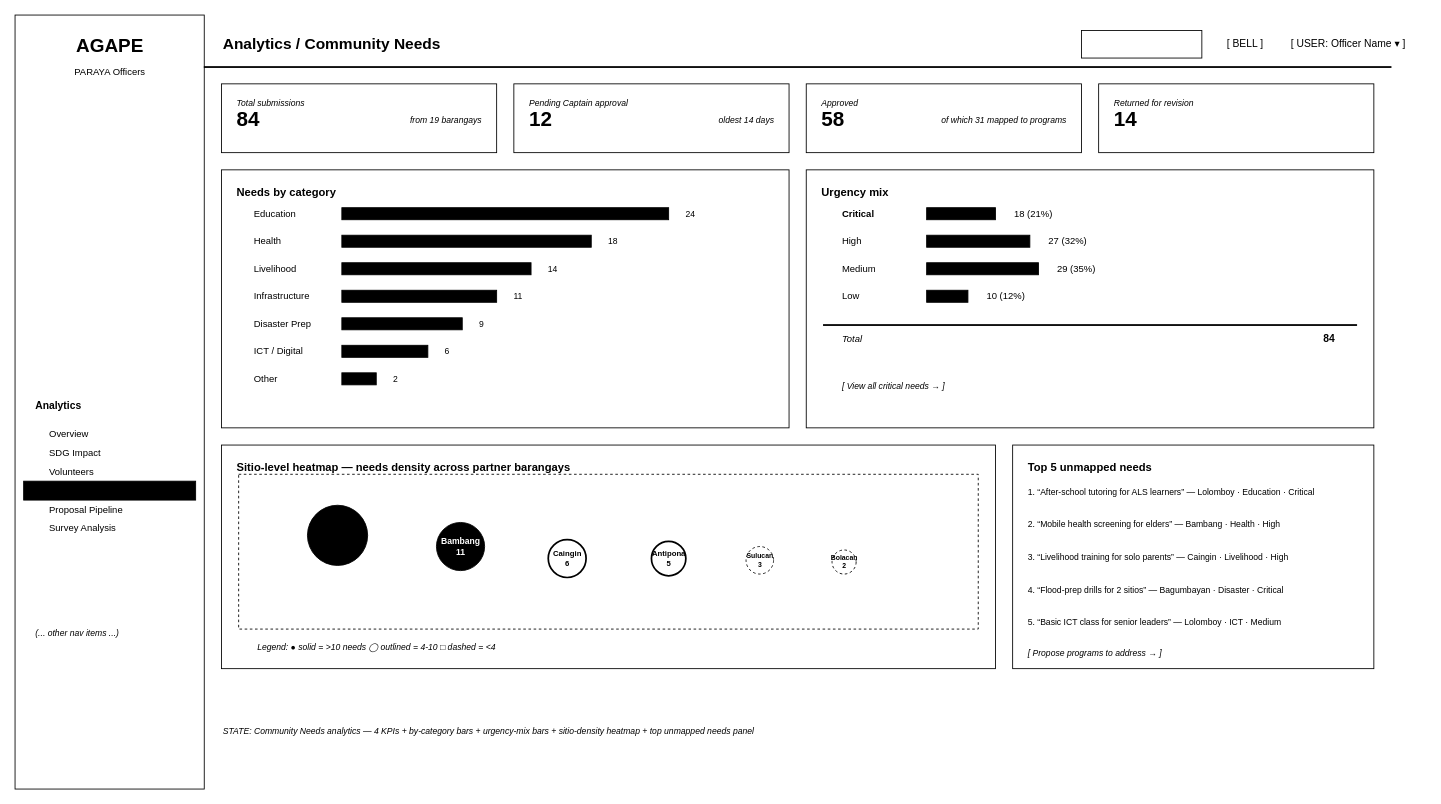
The diagram is 1441 pixels wide and 804 high, and some of its shapes have lost their labels. The shapes that lost their labels are listed below. From the top down, each one's centre as x and y in pixels, then its label:
[1141,44]: [ ⚙ Filters (0) ]
[109,490]: [x] Community Needs
[337,534]: Lolomboy 17
